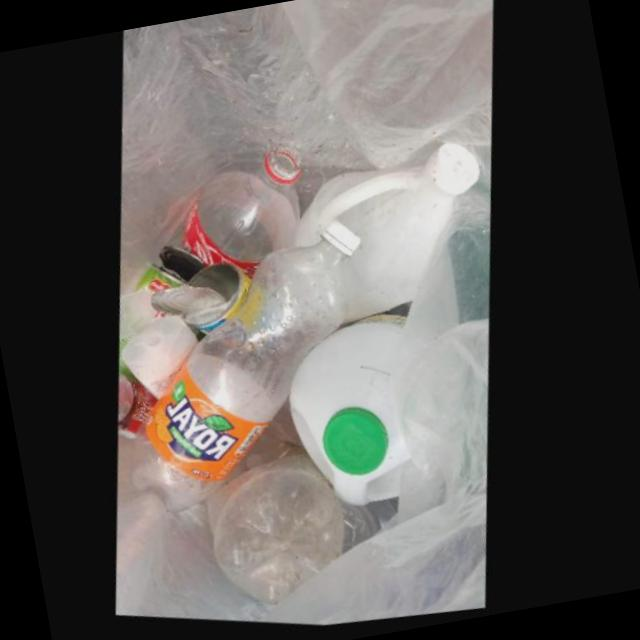chai_nhua: (295, 143, 481, 330), (292, 316, 413, 508), (121, 297, 201, 405)
chai_nhua_pet: (134, 222, 362, 516), (209, 450, 347, 608), (167, 148, 303, 283), (121, 377, 160, 444)
nhom: (153, 268, 253, 339), (135, 249, 206, 298)
